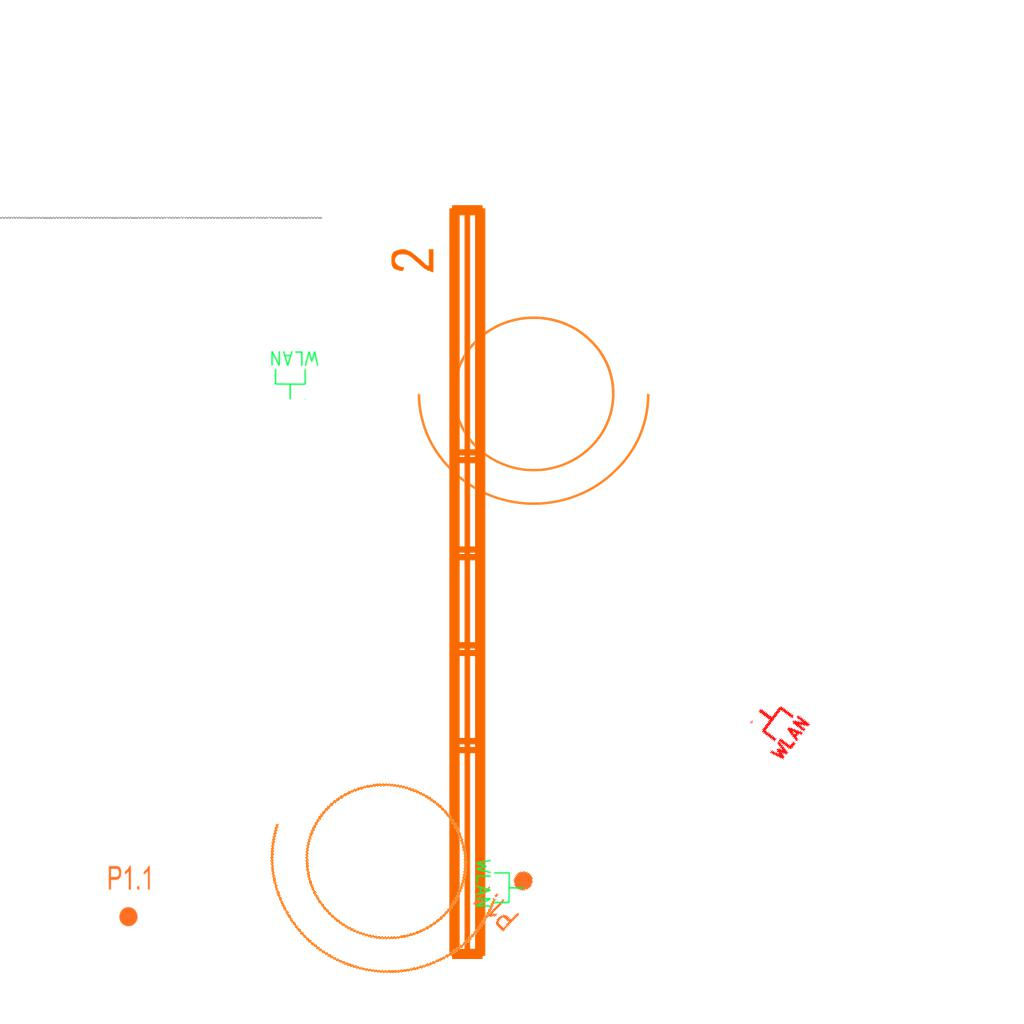Ambulanz_Pendelleuchte_LED: (386, 196, 498, 970)
Downlight_LED_Einbauleuchten_Flur: (469, 855, 547, 935), (107, 864, 153, 928)
Scheinwerfer_fuer_Alarmbeleuchtung: (227, 723, 551, 1022), (408, 291, 672, 516)
WLAN: (739, 691, 813, 765), (269, 349, 321, 401), (474, 857, 526, 909)
